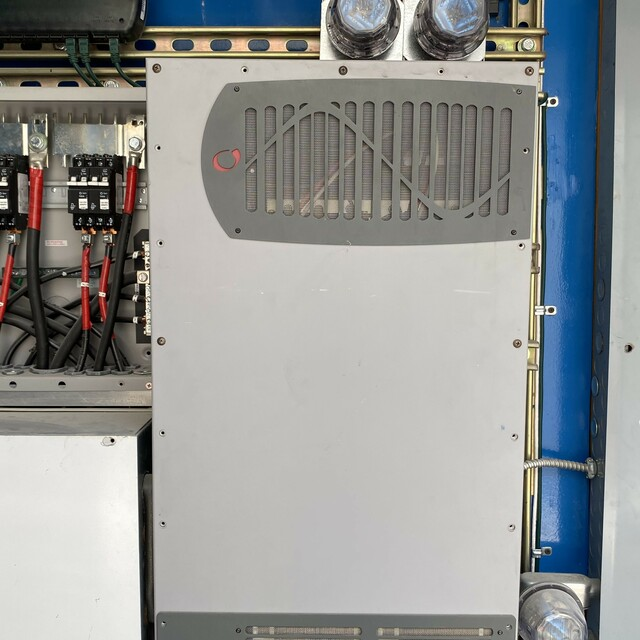inverter: (132, 60, 530, 633)
